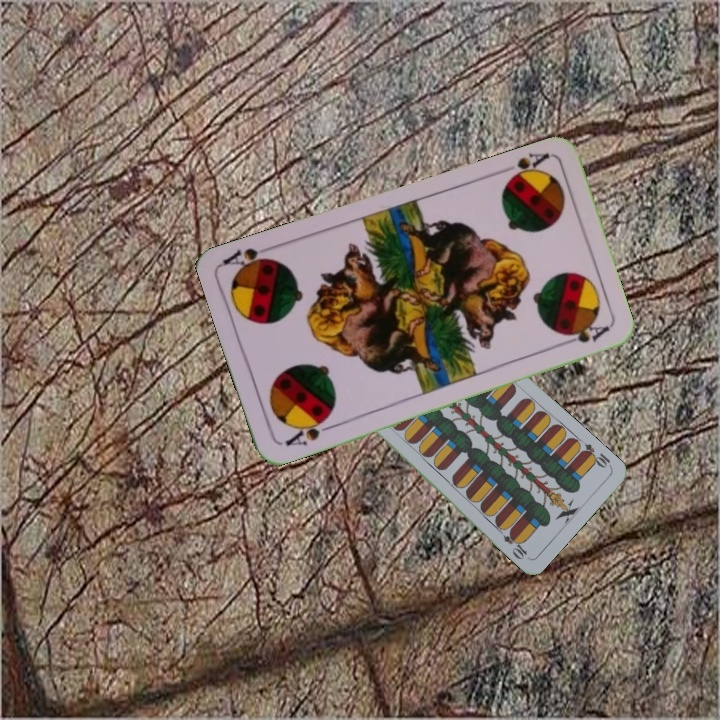E10: (577, 439, 614, 471)
SA: (500, 148, 553, 188), (281, 412, 336, 449)
